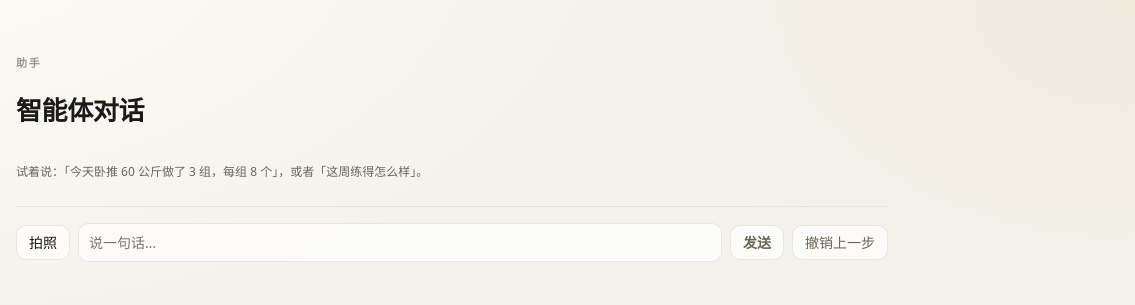
it: 智能体对话页 › 撤销上一步把后端那句话显示出来
Step 1. Click the button with class "undo" → (840, 242), box [792,225,888,260]
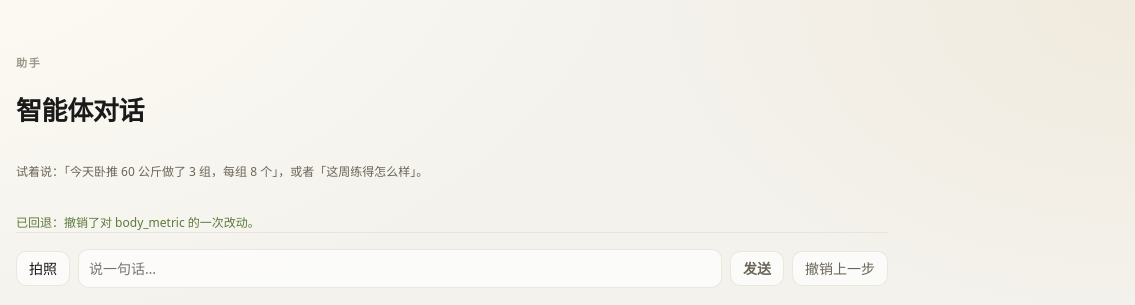
Now the text "已回退" is shown, box [16,214,260,231]
